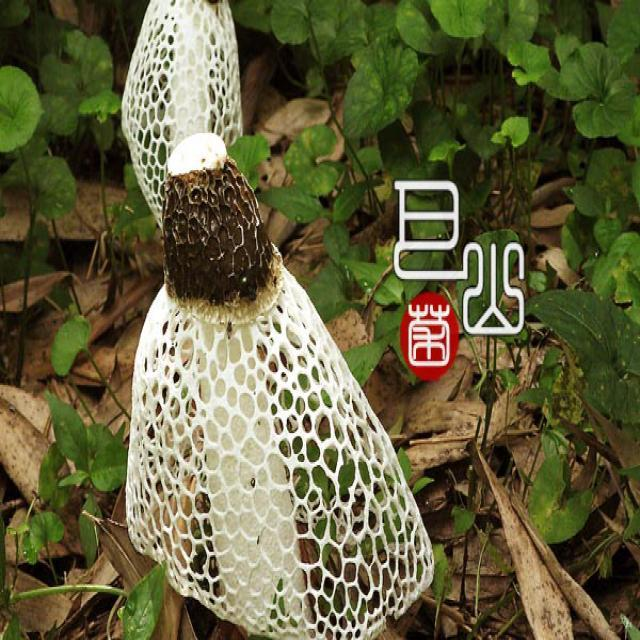Dictyophora indusiate: (120, 0, 433, 635)
